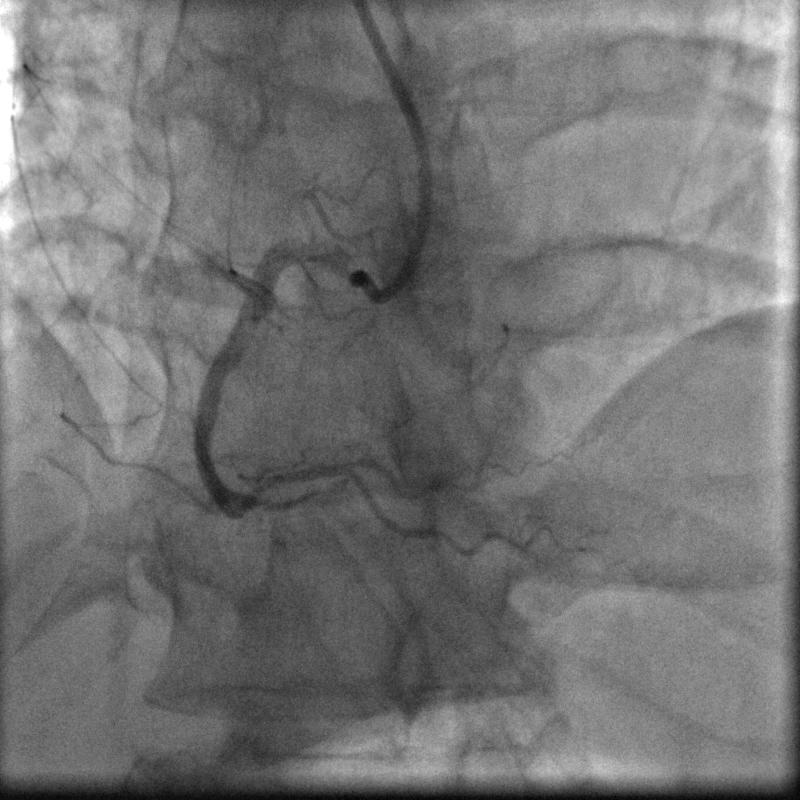Stenosis: (248, 490, 308, 518)
